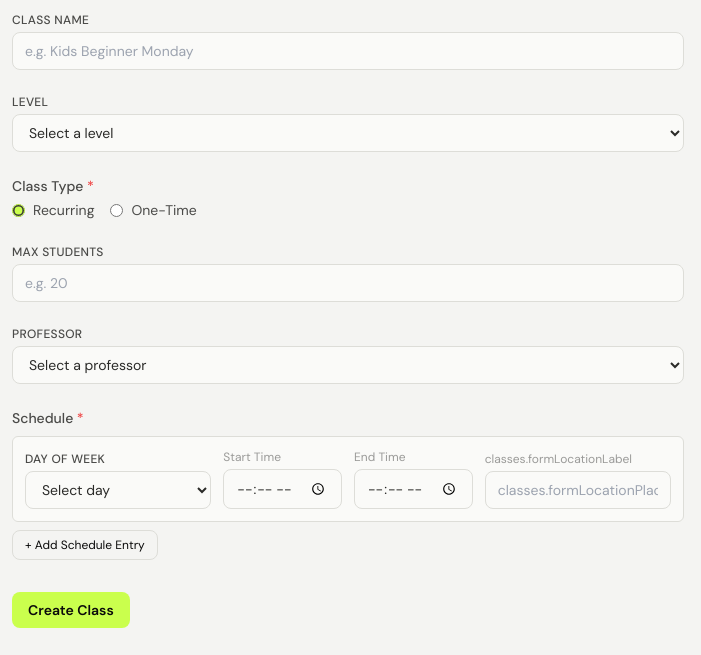
Test case: ClassForm (create mode) › validates schedule entry for one-time class requires date
Click the radio button labelled "One-Time": x=117, y=210 [110, 204, 124, 216]
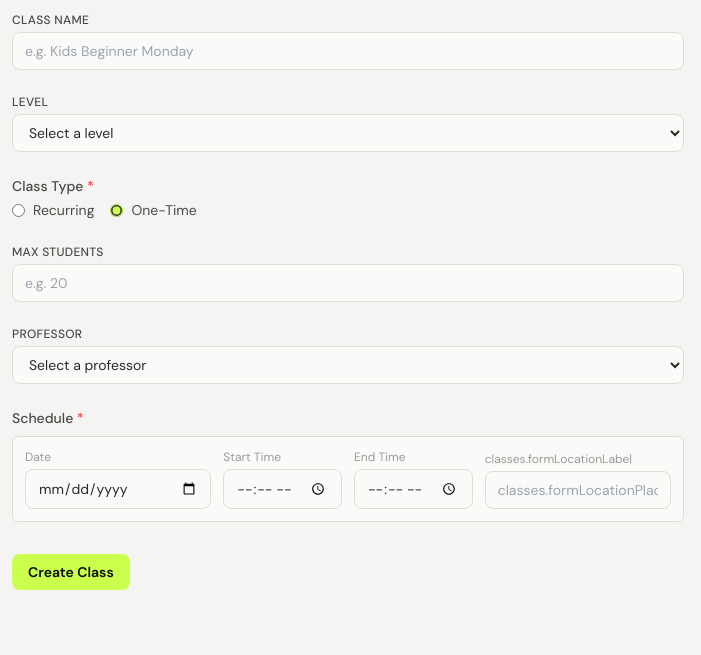
In the field labelled "Class Name": x=348, y=51 [12, 32, 684, 70], type "Workshop"
Select "Advanced" in the dropdown labelled "Level": x=348, y=133 [12, 114, 684, 152]
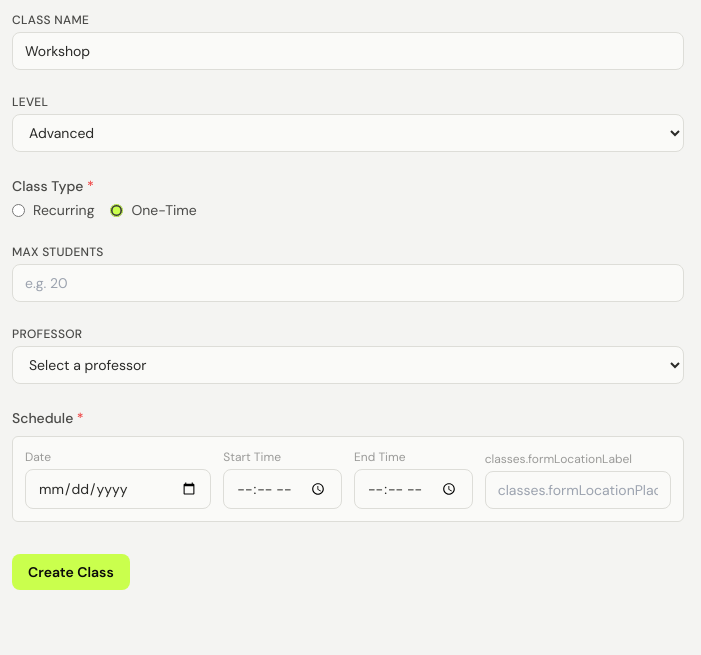
In the number field labelled "Max Students": x=348, y=283 [12, 264, 684, 302], type "10"
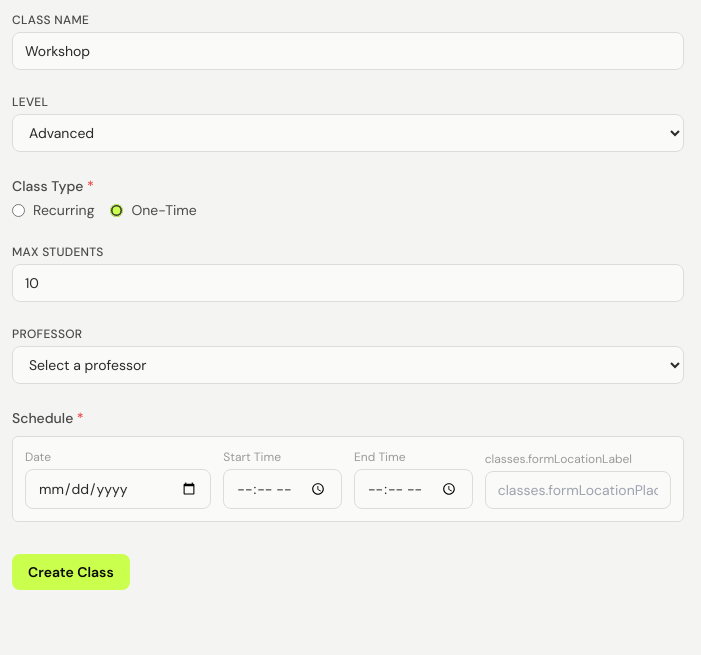
In the time field below "Start Time": x=283, y=489 [223, 469, 342, 509], type "10:00"
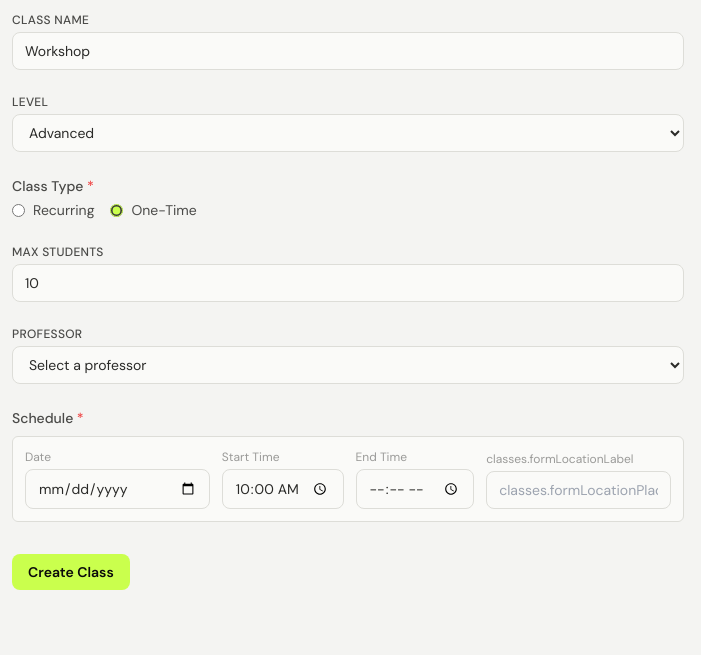
In the time field below "End Time": x=415, y=489 [356, 469, 474, 509], type "12:00"
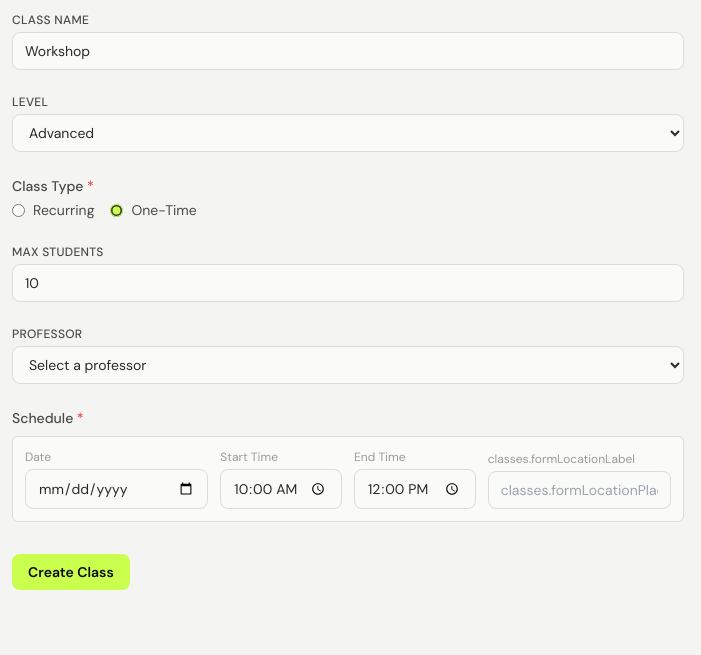
Click the button "Create Class": x=71, y=572 [12, 554, 130, 590]
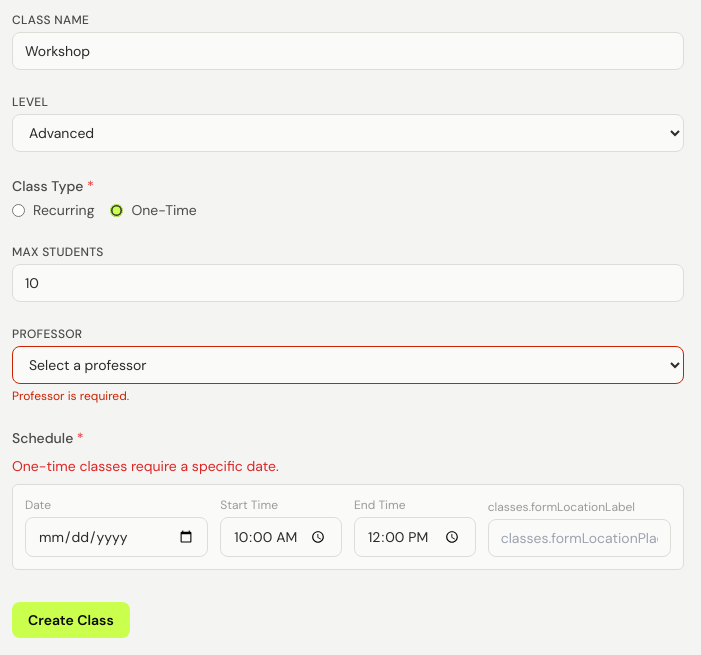
Check: the text "One-time classes require a specific date." is shown, box [12, 457, 279, 475]
